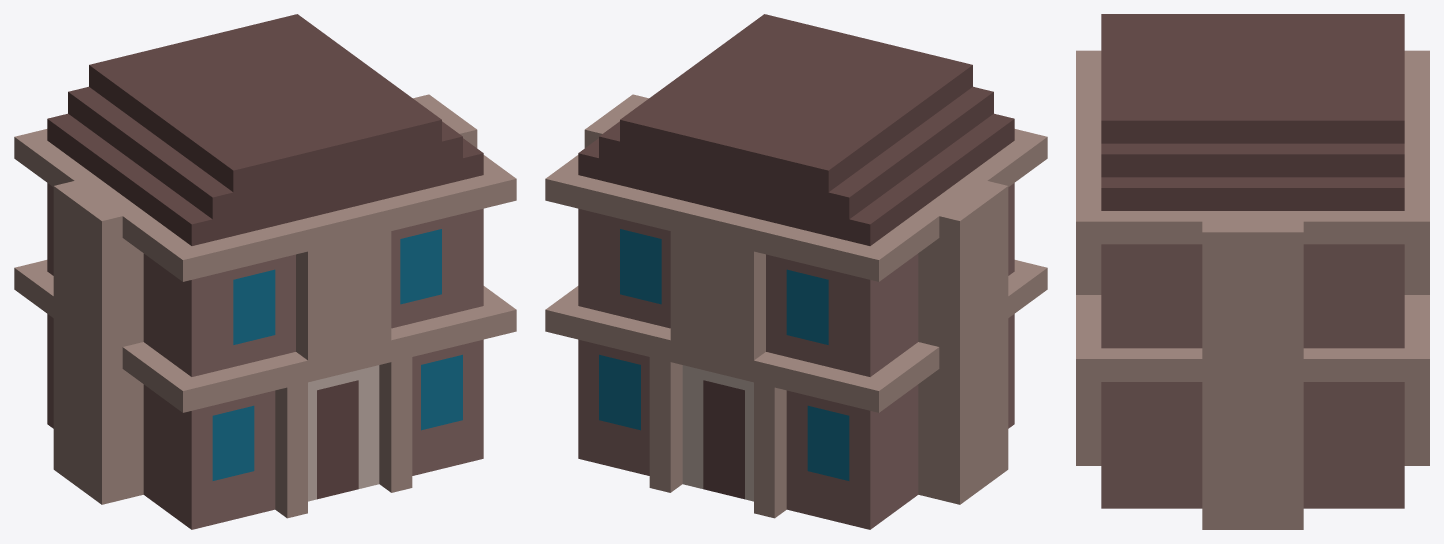
Rendered from prop-house1.obj.
3 renders of one model, left to right at view 1: azimuth 30°, elevation 25°; view 2: azimuth 150°, elevation 25°; view 3: azimuth 270°, elevation 25°, orthographic. The views are drawn at different scales.
Bounding box in the file's own units: 36 × 32 × 28.
1 material, 1 textured.
